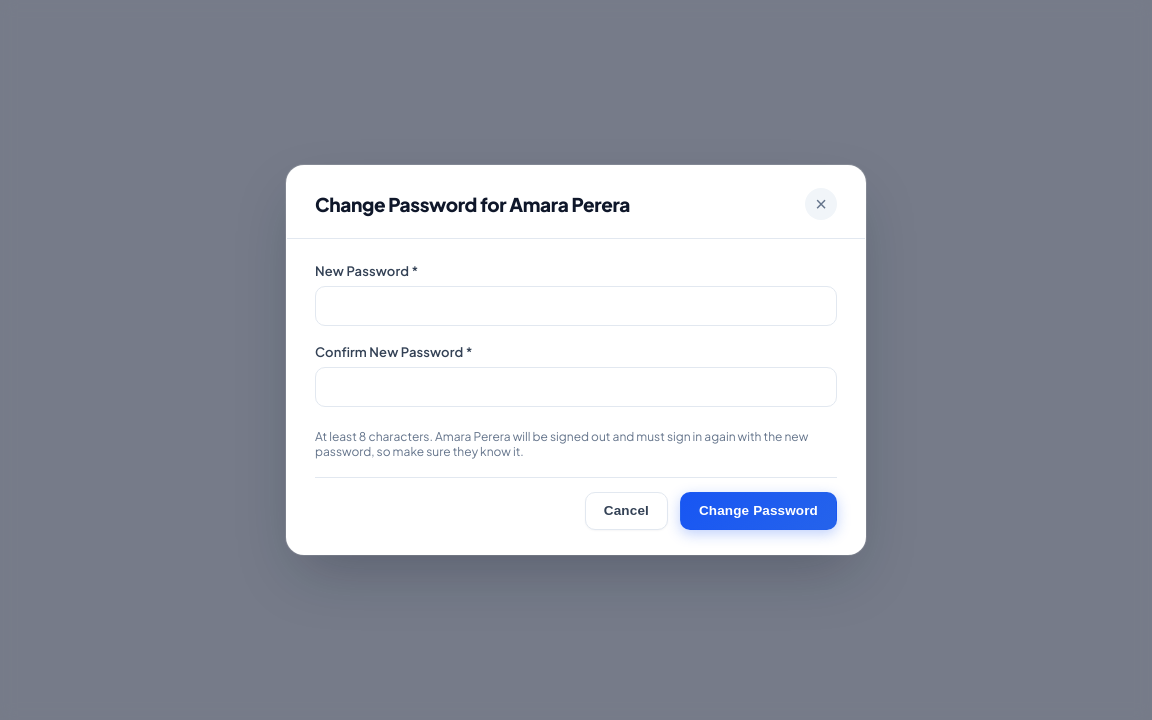
Scenario: ChangePasswordModal › shows the service's own reason when it refuses the password
In the password field labelled "New Password *": coordinates (576, 306) 315,286 -> 837,326, type "N3w-Secret!"
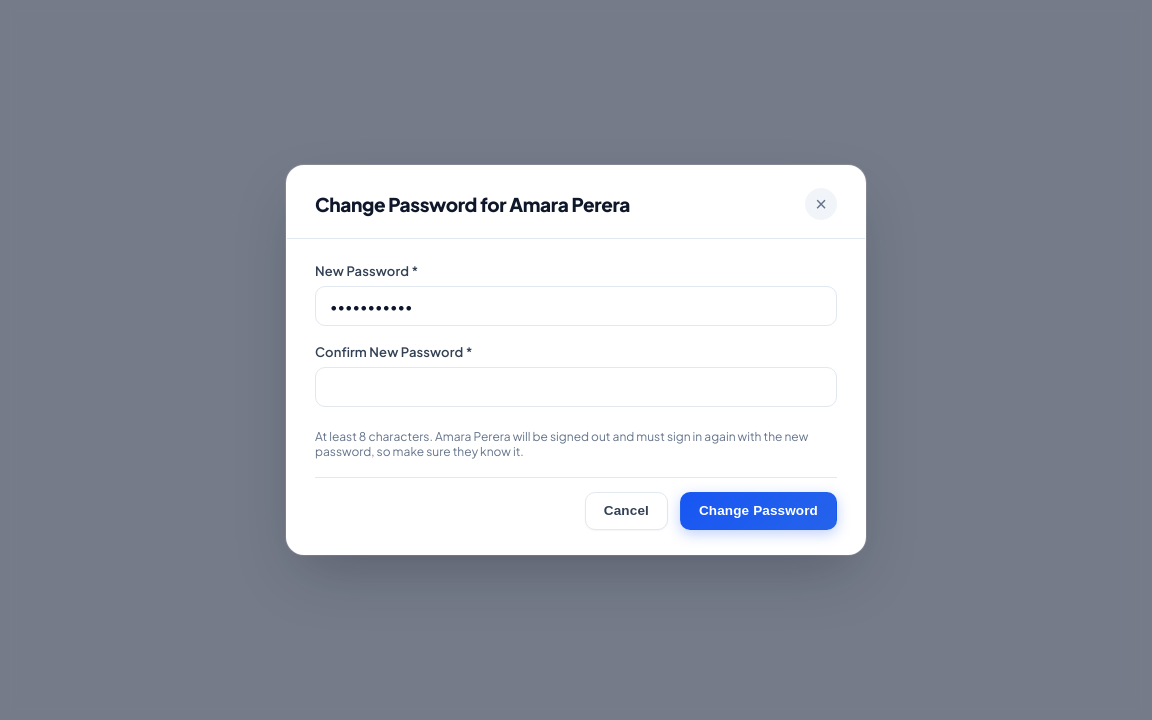
In the password field labelled "Confirm New Password *": coordinates (576, 386) 315,366 -> 837,406, type "N3w-Secret!"
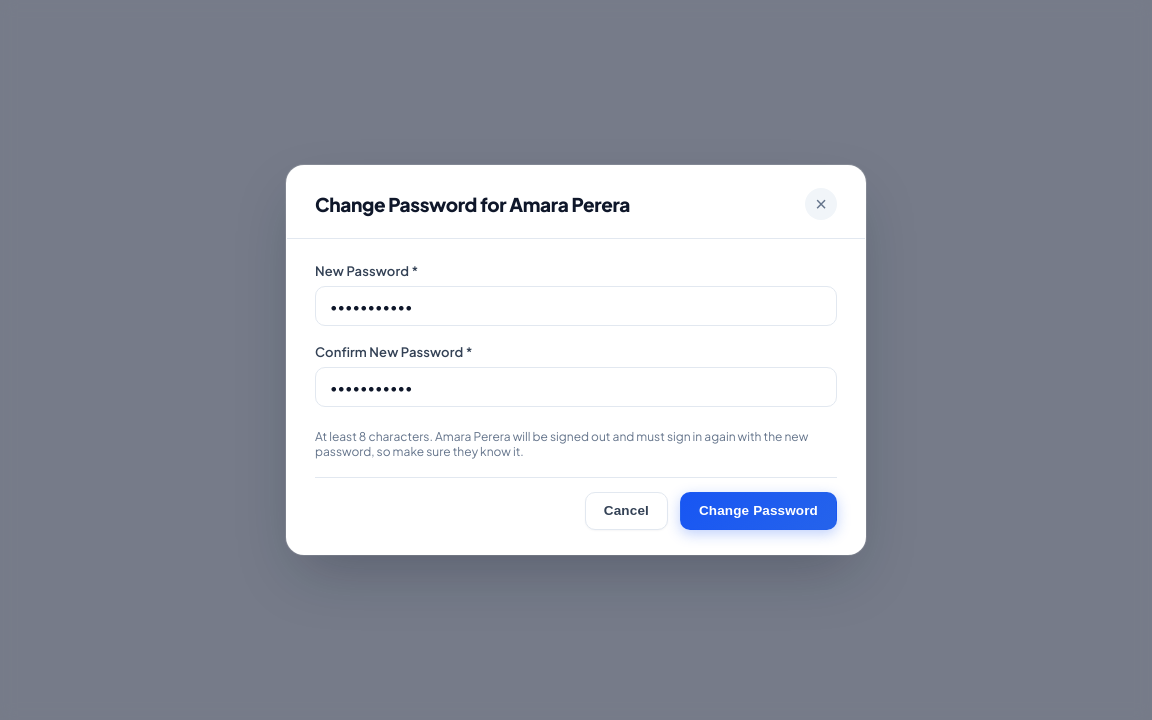
Click the button "Change Password": coordinates (758, 511) 680,492 -> 837,530
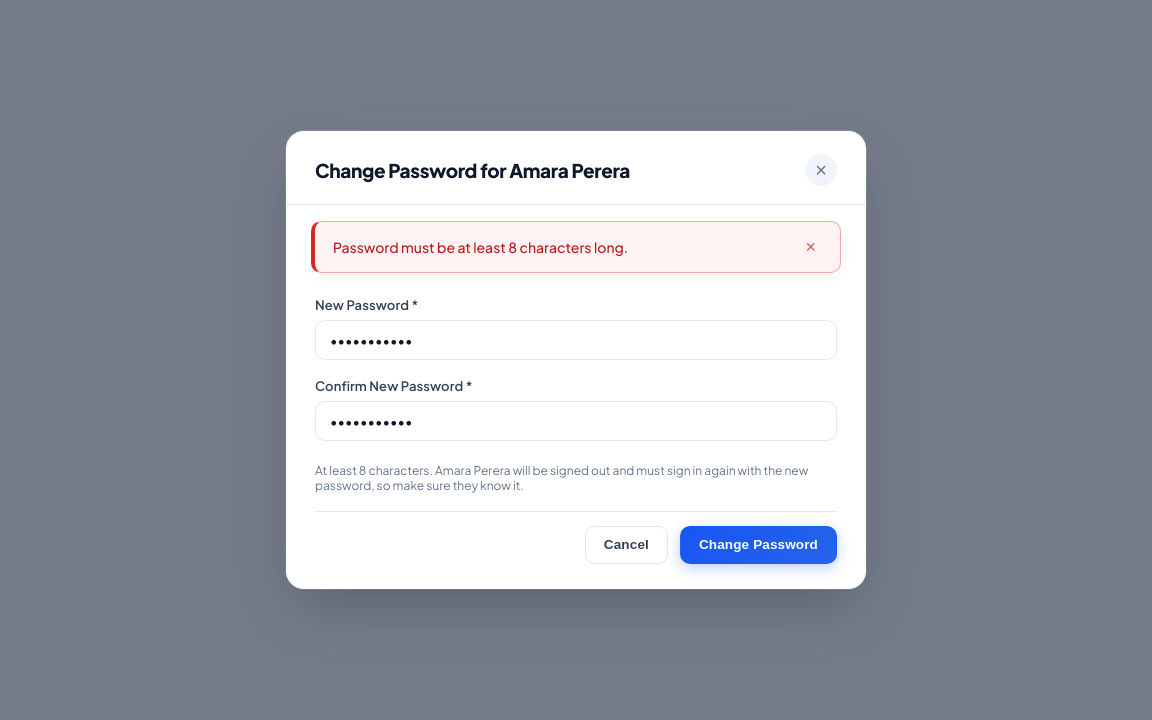
Now the message shows "Password must be at least 8 characters long.", box 333,238 -> 628,256
